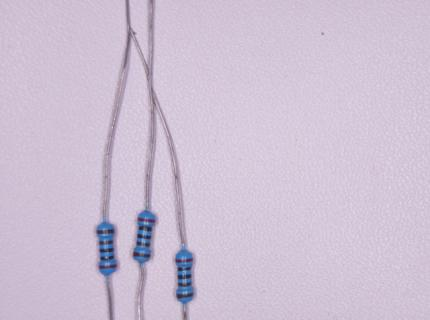Black band: (138, 233, 151, 239), (178, 274, 192, 279), (100, 248, 114, 253), (100, 255, 114, 260), (139, 226, 152, 231), (178, 267, 192, 270)
Brown band: (133, 252, 151, 258), (177, 292, 194, 298), (97, 229, 114, 234), (100, 240, 113, 245), (137, 242, 150, 247), (178, 282, 192, 286)
Red band: (99, 264, 117, 269), (137, 217, 155, 222), (175, 258, 193, 263)
